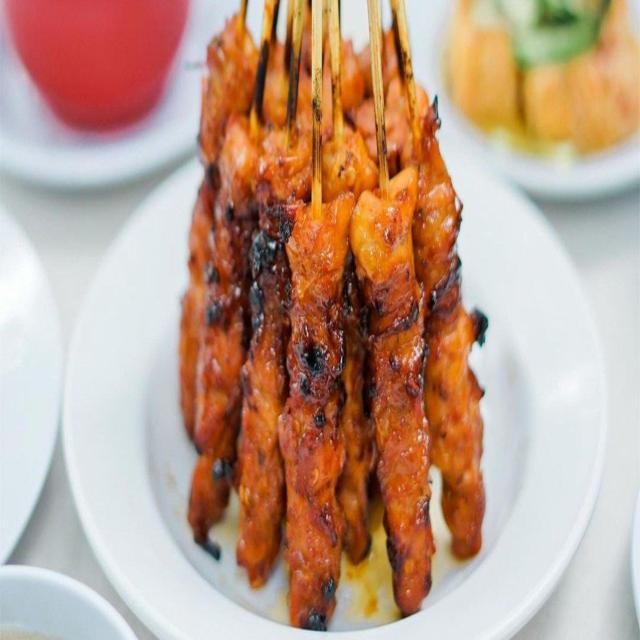Sate: (199, 5, 483, 622)
